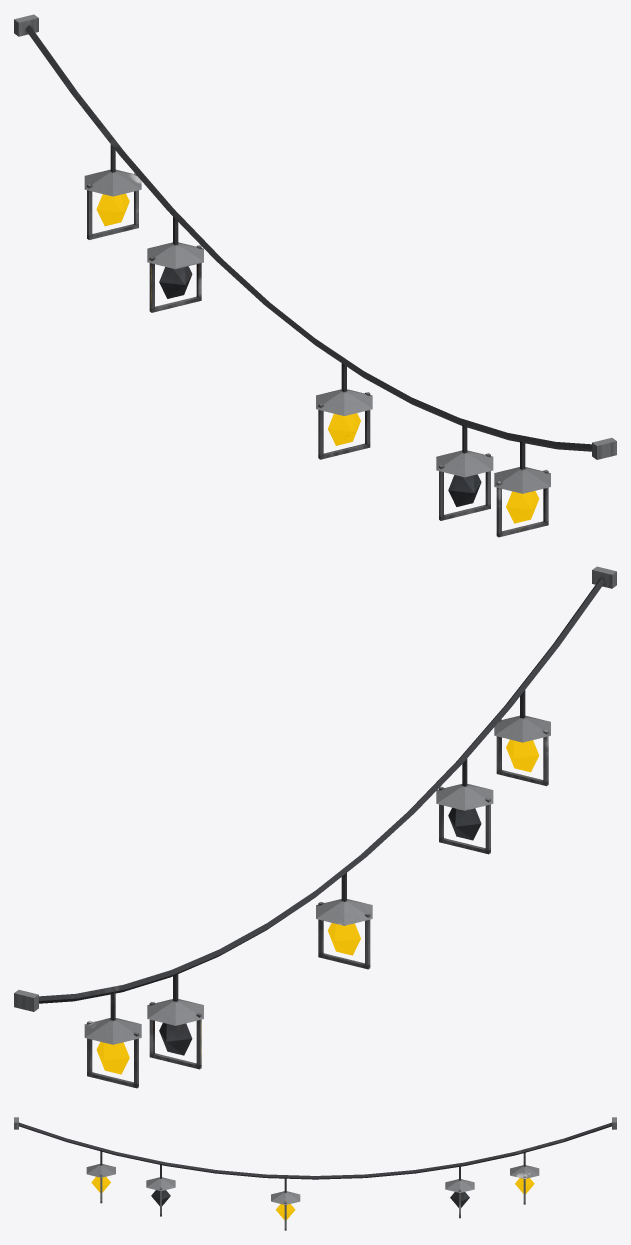
File: nodexeus-set-run-lights-c.glb
The picture shows the model from 3 angles, top to bottom: view 1: azimuth 30°, elevation 25°; view 2: azimuth 150°, elevation 25°; view 3: azimuth 270°, elevation 25°; orthographic projection. The views are drawn at different scales.
Visible parts, largest first — view 1: set-run-lights-c; view 2: set-run-lights-c; view 3: set-run-lights-c.
Part boxes in pixels (left/top/right/bottom): set-run-lights-c: left=14, top=14, right=616, bottom=537; set-run-lights-c: left=14, top=566, right=616, bottom=1088; set-run-lights-c: left=14, top=1117, right=616, bottom=1230.
Bounding box in the file's own units: 0.34 × 1.15 × 6.05.
1 material, 1 textured.
